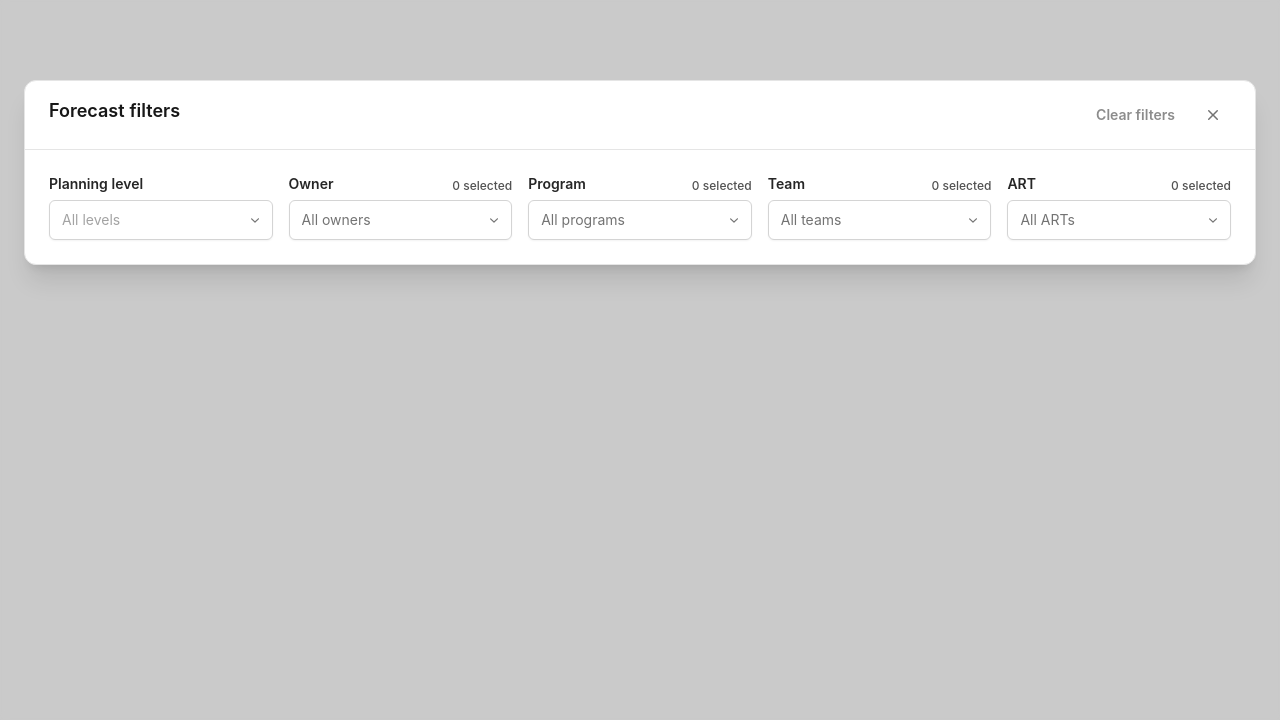
it: FilterPanel › searches and selects a planning level using the keyboard
This screenshot has width=1280, height=720.
Type "2027" into the dropdown labelled "Planning level" at (161, 220), box [49,200,273,240]
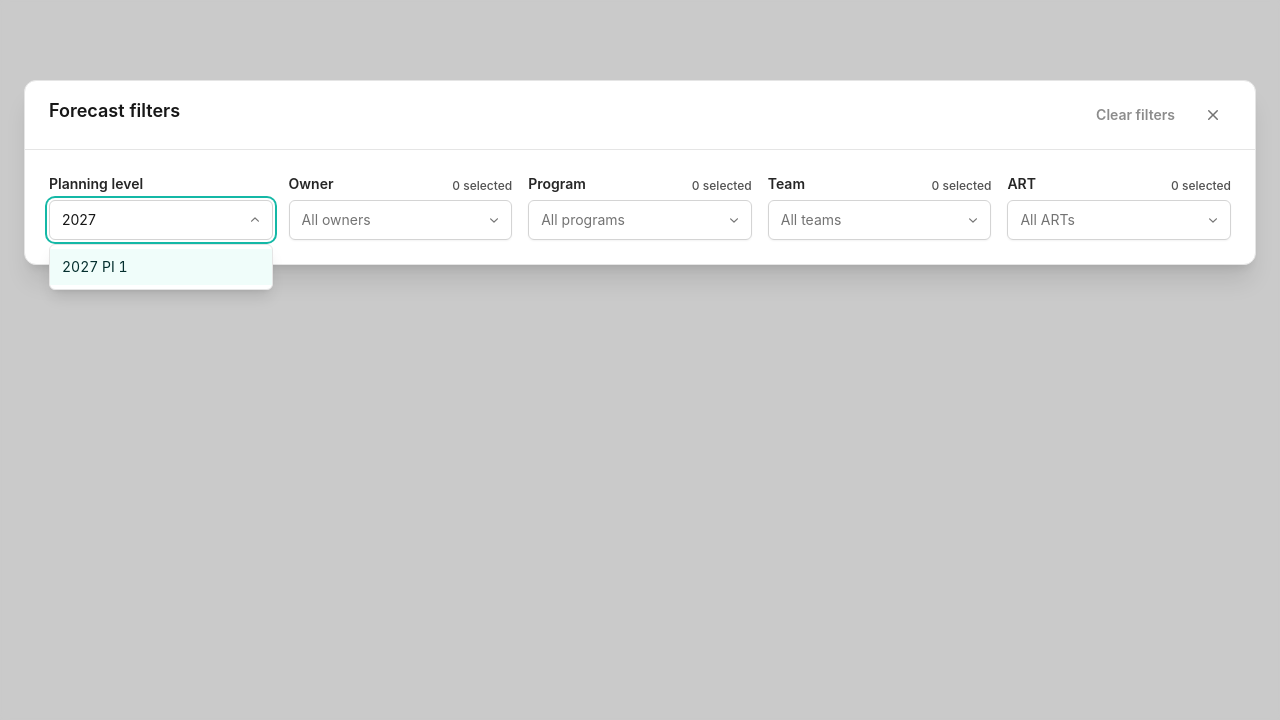
Result: the option "2027 PI 1" is shown at [50,249,272,285]
Result: the option "Current PI" is gone
Press Arrowdown Enter
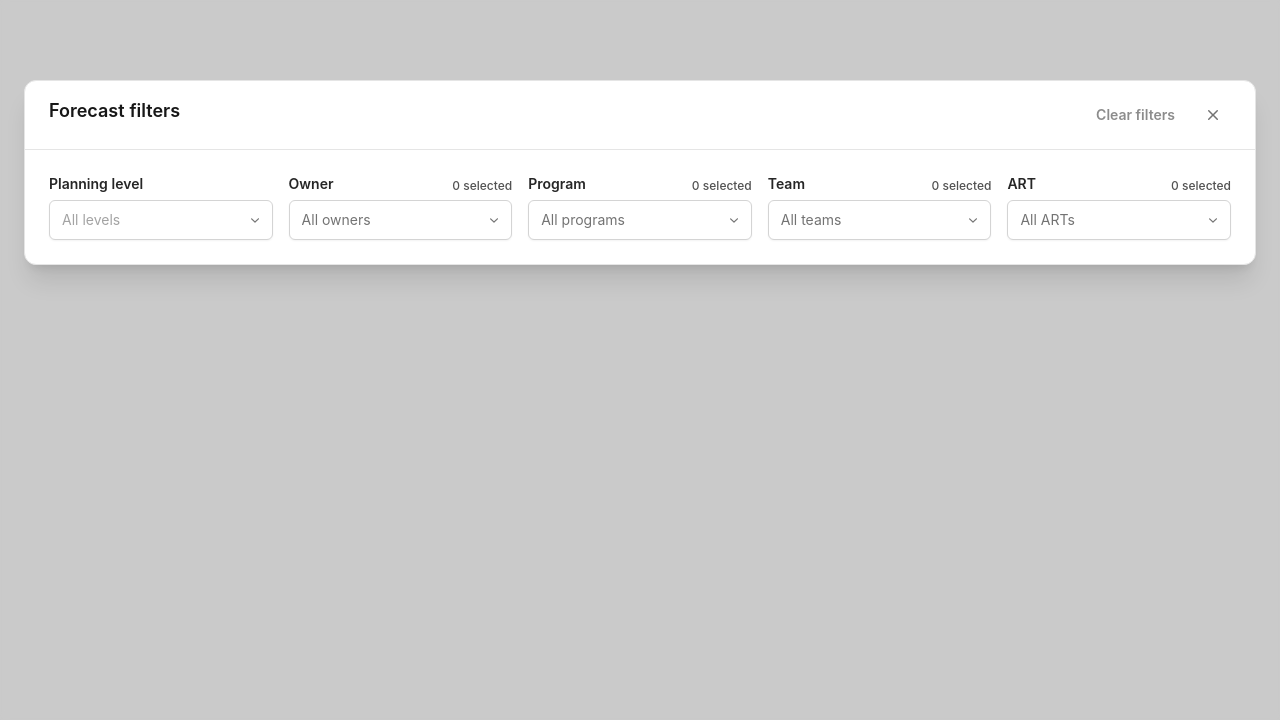
Result: the dropdown labelled "Planning level" is collapsed at [49,200,273,240]
